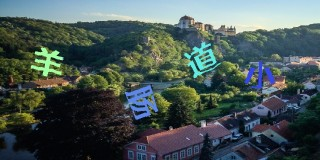小: (244, 57, 277, 90)
羊: (31, 44, 63, 77)
肠: (125, 84, 159, 120)
道: (182, 40, 222, 78)
